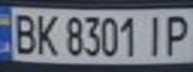0: (100, 14, 121, 58)
1: (118, 12, 142, 57)
3: (81, 12, 103, 57)
8: (60, 12, 84, 57)
B: (9, 10, 39, 55)
I: (139, 11, 169, 57)
K: (30, 11, 60, 56)
P: (160, 11, 193, 57)
